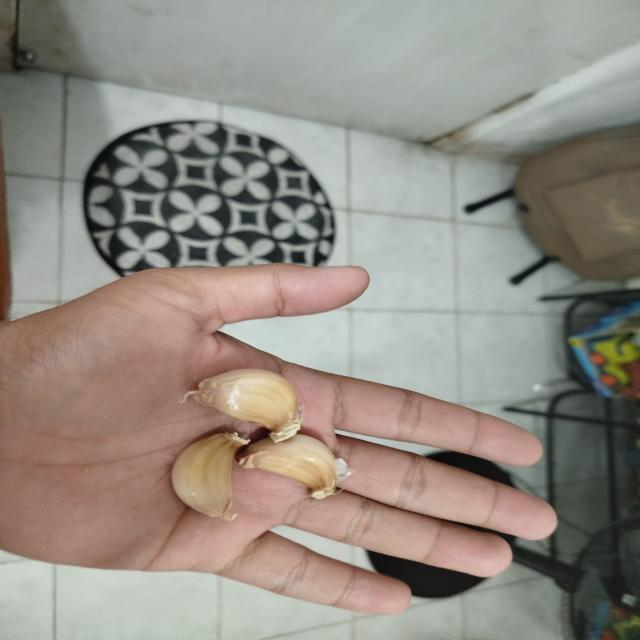garlic: (178, 368, 304, 443), (237, 433, 354, 500), (171, 431, 251, 522)
